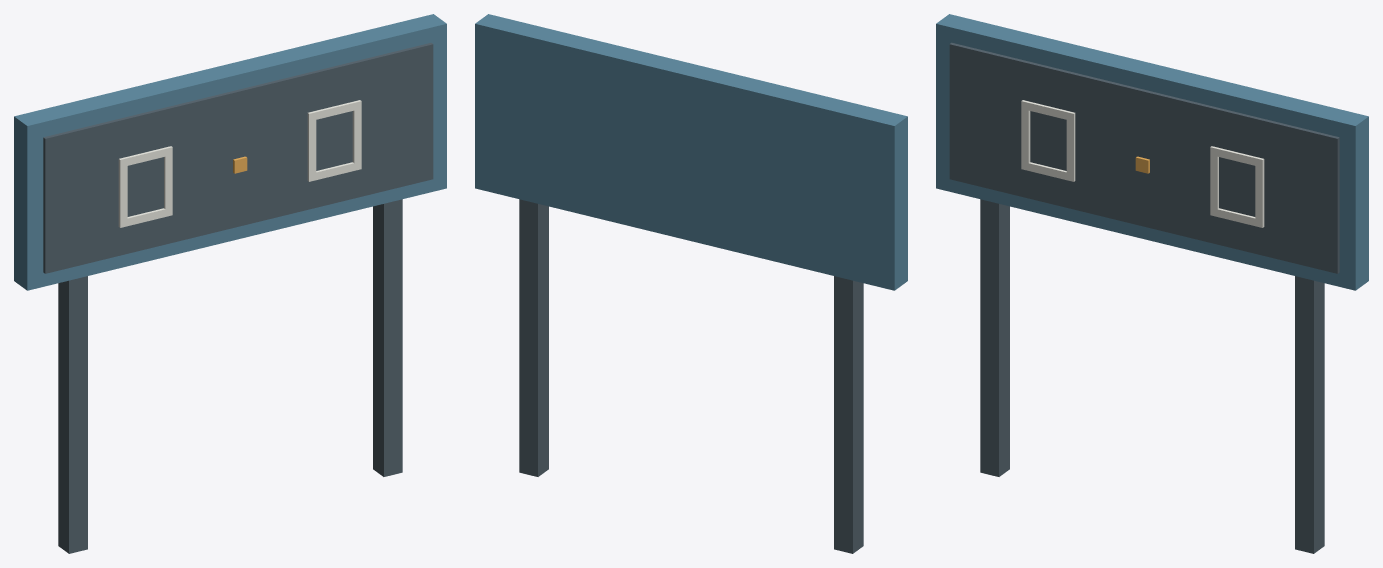
File: football-soccer-club-grounds-scoreboard-e12a4ed5.glb
The picture shows the model from 3 angles, left to right: view 1: azimuth 30°, elevation 25°; view 2: azimuth 150°, elevation 25°; view 3: azimuth 330°, elevation 25°; orthographic projection.
Parts seen in each view (by area): view 1: scoreboard; view 2: scoreboard; view 3: scoreboard.
Boxes of the visible parts, left/top/right/bottom form: scoreboard: left=14, top=14, right=446, bottom=553; scoreboard: left=475, top=14, right=907, bottom=553; scoreboard: left=936, top=14, right=1368, bottom=553.
Size of the model in its own units: 4 by 4 by 0.2826.
